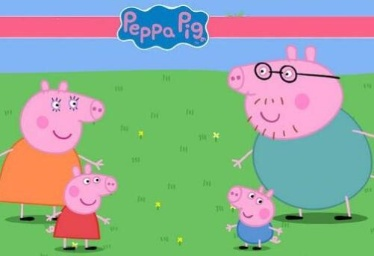Peppa: (45, 165, 118, 256)
